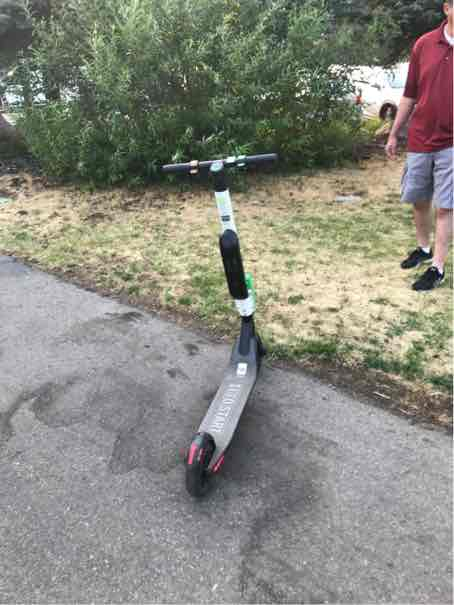scooter: (143, 145, 300, 507)
